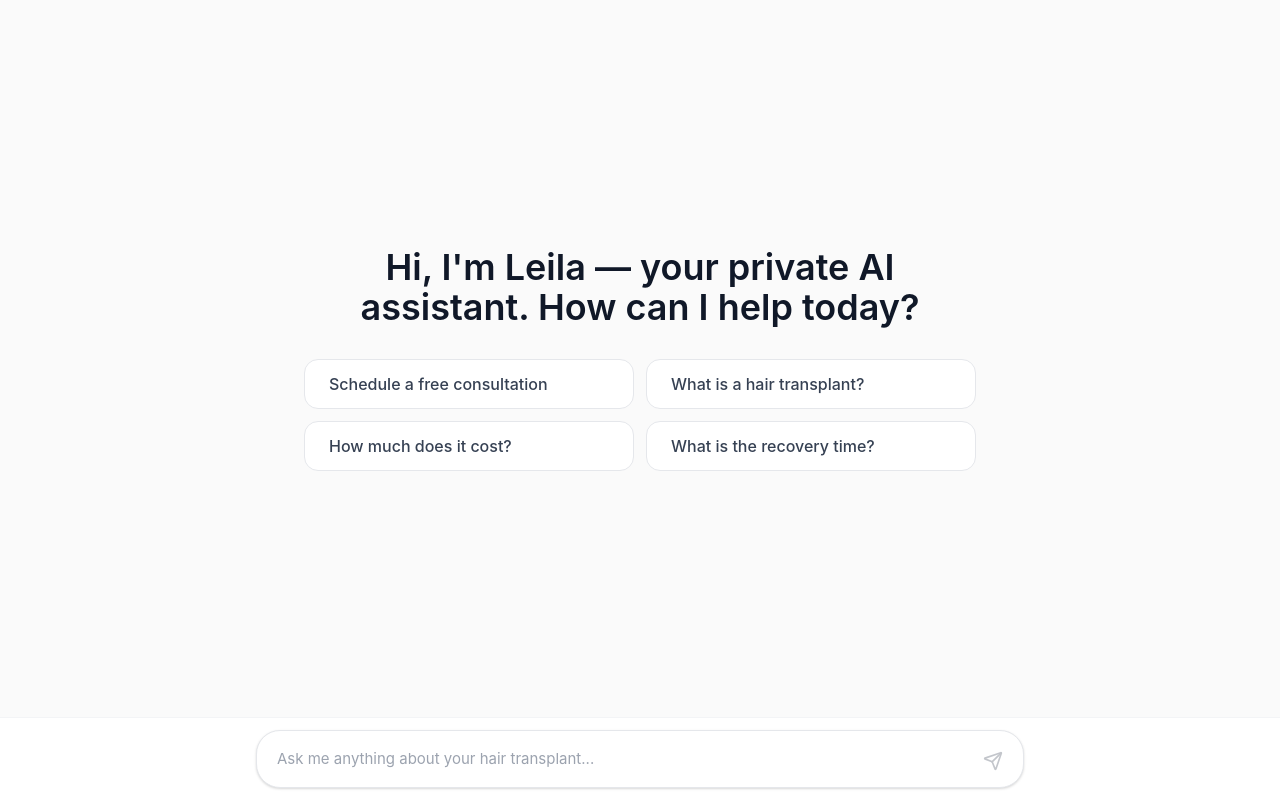
Test: LangchainChat › sending messages › hides greeting after sending a message
Click the button "What is a hair transplant?" at (811, 384), box [646, 358, 976, 408]
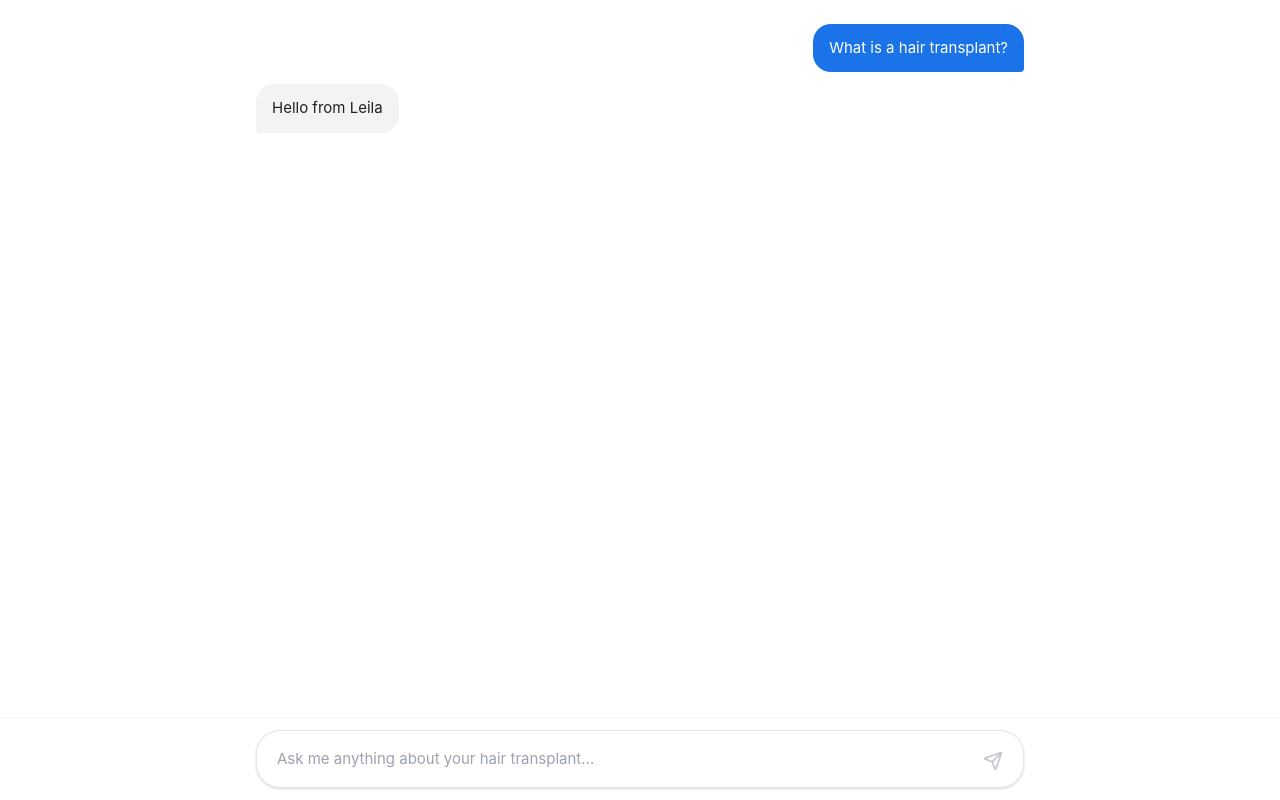
expect the button "Schedule a free consultation" is gone: met
